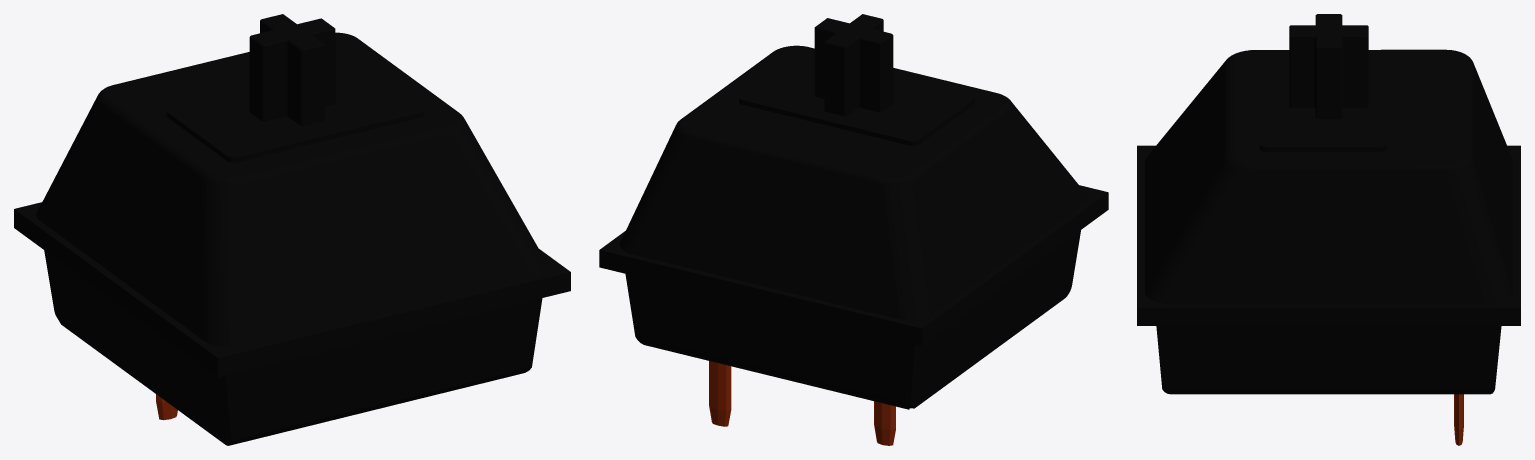
The model's file is mxblack.glb.
The picture shows the model from 3 angles, left to right: view 1: azimuth 30°, elevation 25°; view 2: azimuth 150°, elevation 25°; view 3: azimuth 270°, elevation 25°; orthographic projection. The views are drawn at different scales.
Parts seen in each view (by area): view 1: BlackMX; view 2: BlackMX; view 3: BlackMX.
Part boxes in pixels (bbox=[...]): BlackMX: bbox=[14, 14, 570, 445]; BlackMX: bbox=[599, 14, 1108, 445]; BlackMX: bbox=[1137, 14, 1520, 445].
Size of the model in its own units: 0.0145 by 0.0157 by 0.0145.
